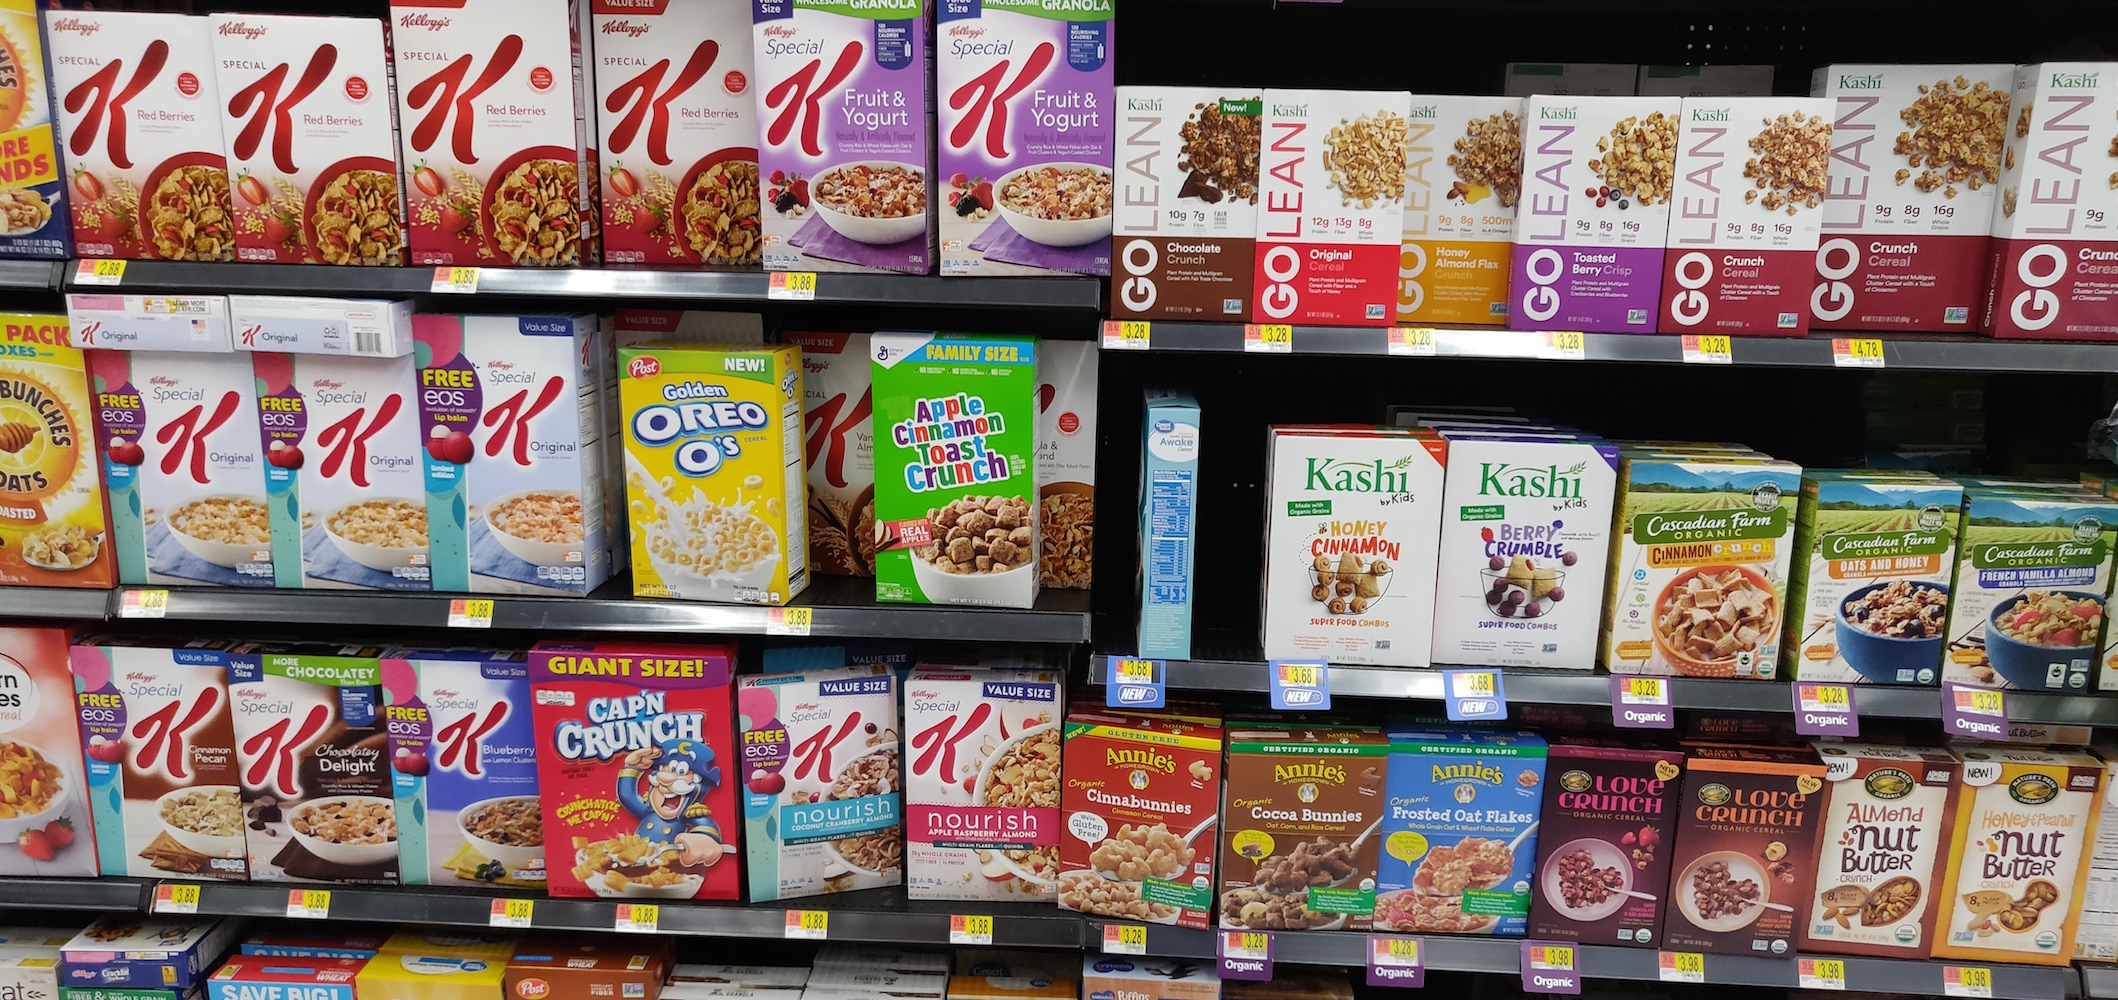Oreo Golden-568301011: (629, 342, 801, 599)
